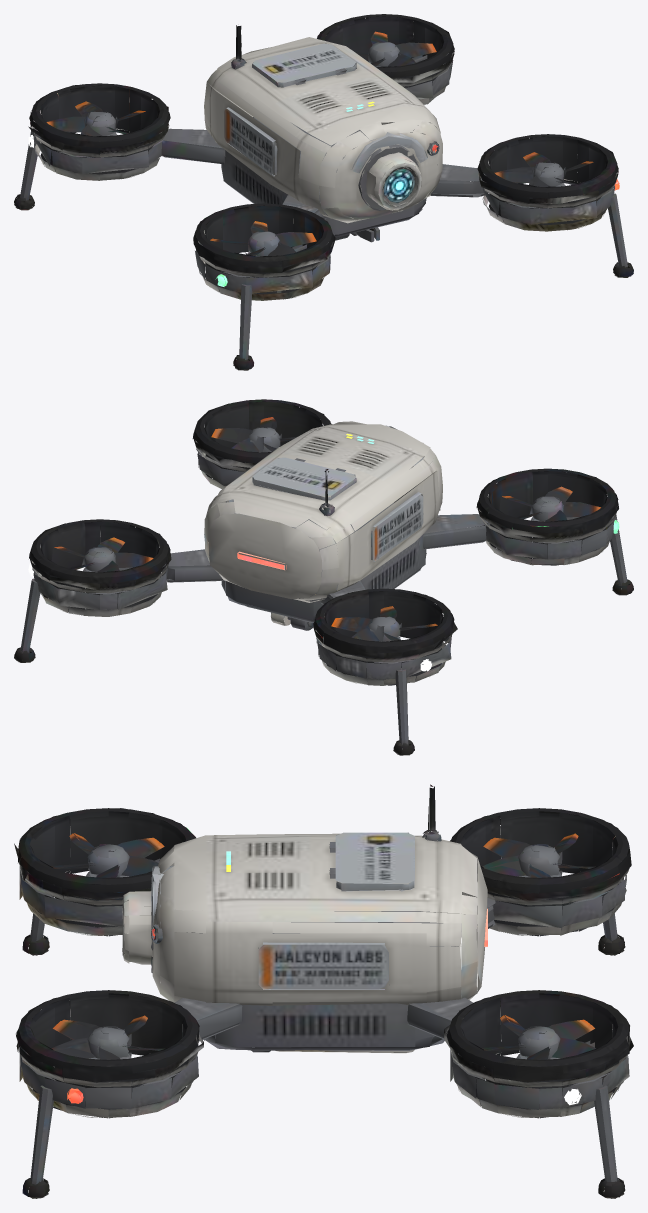
The model's file is drone.glb.
3 views of the same model, one above another, from view 1: azimuth 30°, elevation 25°; view 2: azimuth 150°, elevation 25°; view 3: azimuth 270°, elevation 25° (orthographic). The views are drawn at different scales.
Parts seen in each view (by area): view 1: GEO_Body_001, GEO_FanFL_001, GEO_FanFR_001, GEO_FanBL_001, GEO_FanBR_001; view 2: GEO_Body_001, GEO_FanBL_001, GEO_FanBR_001, GEO_FanFL_001, GEO_FanFR_001; view 3: GEO_Body_001, GEO_FanBR_001, GEO_FanFR_001, GEO_FanBL_001, GEO_FanFL_001.
Part boxes in pixels (x1,y1,x2,y2): GEO_Body_001: [14, 14, 633, 370]; GEO_FanFL_001: [210, 221, 316, 256]; GEO_FanFR_001: [494, 152, 593, 186]; GEO_FanBL_001: [46, 101, 145, 136]; GEO_FanBR_001: [355, 31, 436, 66]; GEO_Body_001: [14, 399, 633, 755]; GEO_FanBL_001: [331, 606, 437, 641]; GEO_FanBR_001: [54, 537, 153, 572]; GEO_FanFL_001: [502, 486, 600, 521]; GEO_FanFR_001: [211, 417, 296, 452]; GEO_Body_001: [14, 784, 633, 1198]; GEO_FanBR_001: [481, 1015, 595, 1059]; GEO_FanFR_001: [51, 1015, 164, 1059]; GEO_FanBL_001: [482, 833, 595, 877]; GEO_FanFL_001: [51, 833, 164, 877].
Bounding box in the file's own units: 0.6025 × 0.2794 × 0.6047.
Materials: 1 (1 with a texture image).
